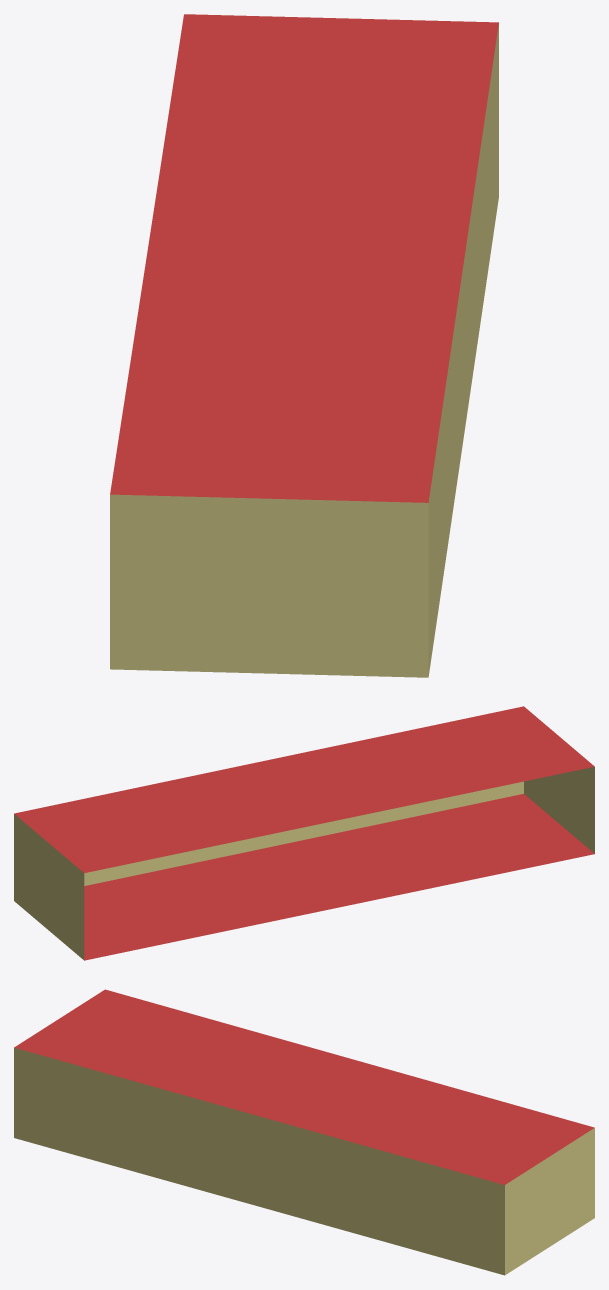
The picture shows the model from 3 angles, top to bottom: view 1: azimuth 30°, elevation 25°; view 2: azimuth 150°, elevation 25°; view 3: azimuth 270°, elevation 25°; orthographic projection. The views are drawn at different scales.
Parts seen in each view (by area): view 1: group_3, group_4; view 2: group_3, group_5, group_4; view 3: group_4, group_3.
Boxes of the visible parts, box(x1,y1,x2,y2) form: group_3: box(110, 14, 498, 502); group_4: box(110, 23, 498, 677); group_3: box(14, 706, 594, 872); group_5: box(84, 794, 594, 960); group_4: box(14, 766, 594, 960); group_4: box(14, 1047, 594, 1275); group_3: box(14, 989, 594, 1184).
Bounding box in the file's own units: 33.69 × 42.28 × 7.26.
